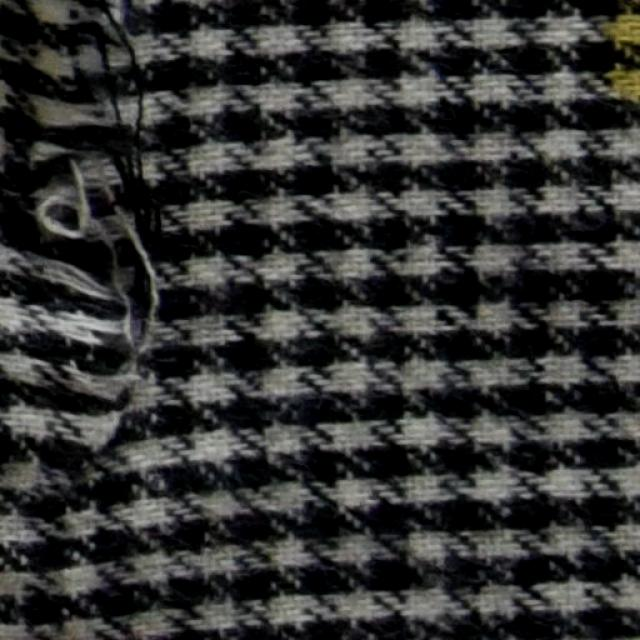Snag: (0, 2, 160, 439)
Stain: (599, 0, 639, 119)
